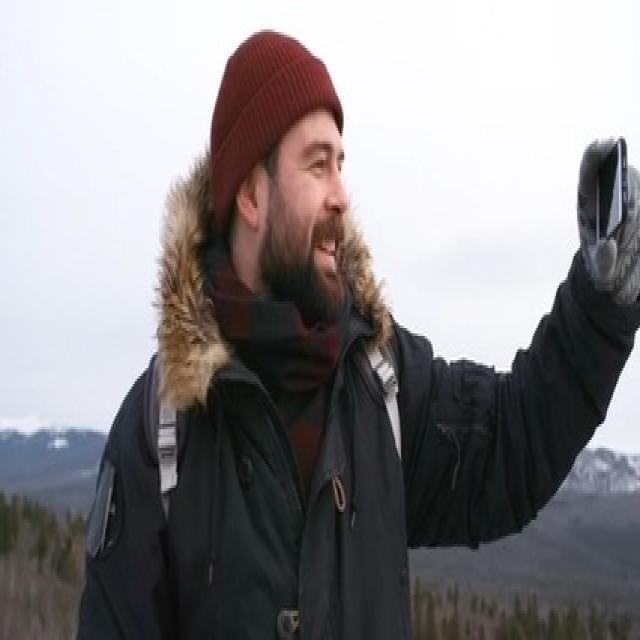Jacket_Wearer: (84, 248, 639, 640)
Person: (80, 24, 640, 640)
